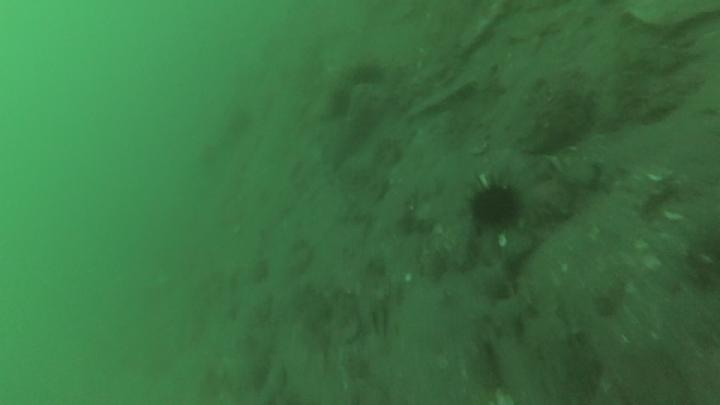echinus: (467, 178, 524, 231), (346, 59, 387, 90), (325, 86, 355, 121)
